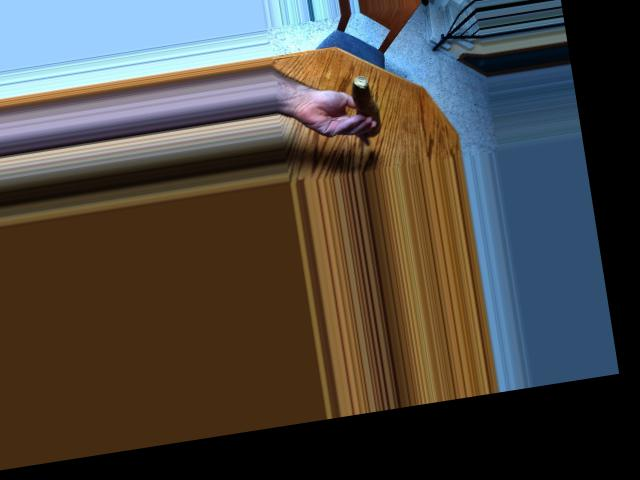sweet_potato: (343, 75, 384, 132)
